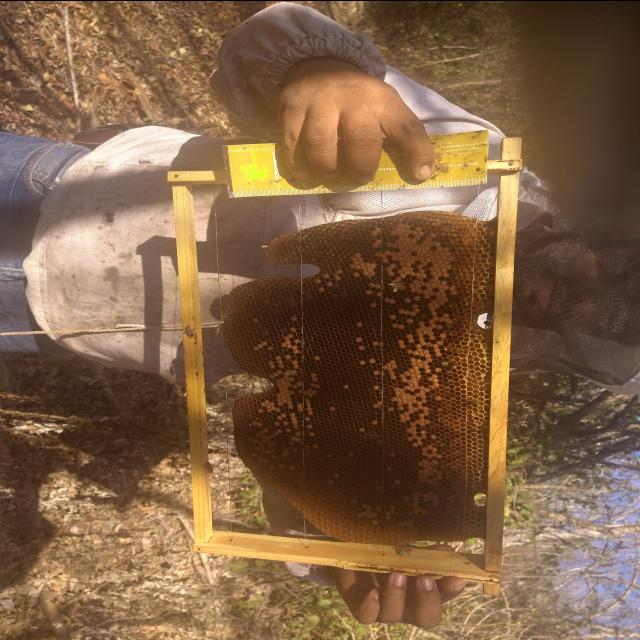cria: (370, 222, 456, 516), (247, 326, 321, 470)
marco: (206, 177, 496, 536)
